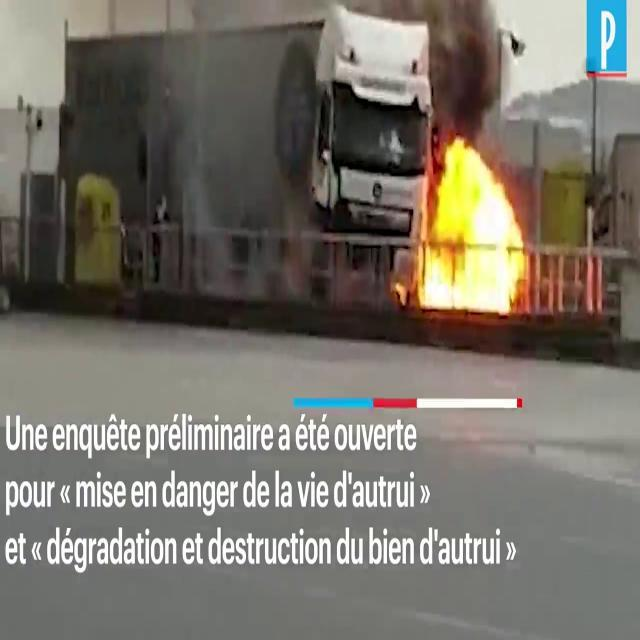Fire: (402, 130, 540, 320)
Smoke: (146, 2, 330, 306)
